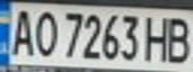2: (78, 9, 103, 61)
3: (118, 11, 145, 62)
6: (100, 10, 124, 62)
7: (57, 8, 84, 59)
A: (3, 6, 39, 57)
B: (163, 14, 193, 63)
H: (142, 12, 172, 63)
O: (30, 7, 60, 58)
